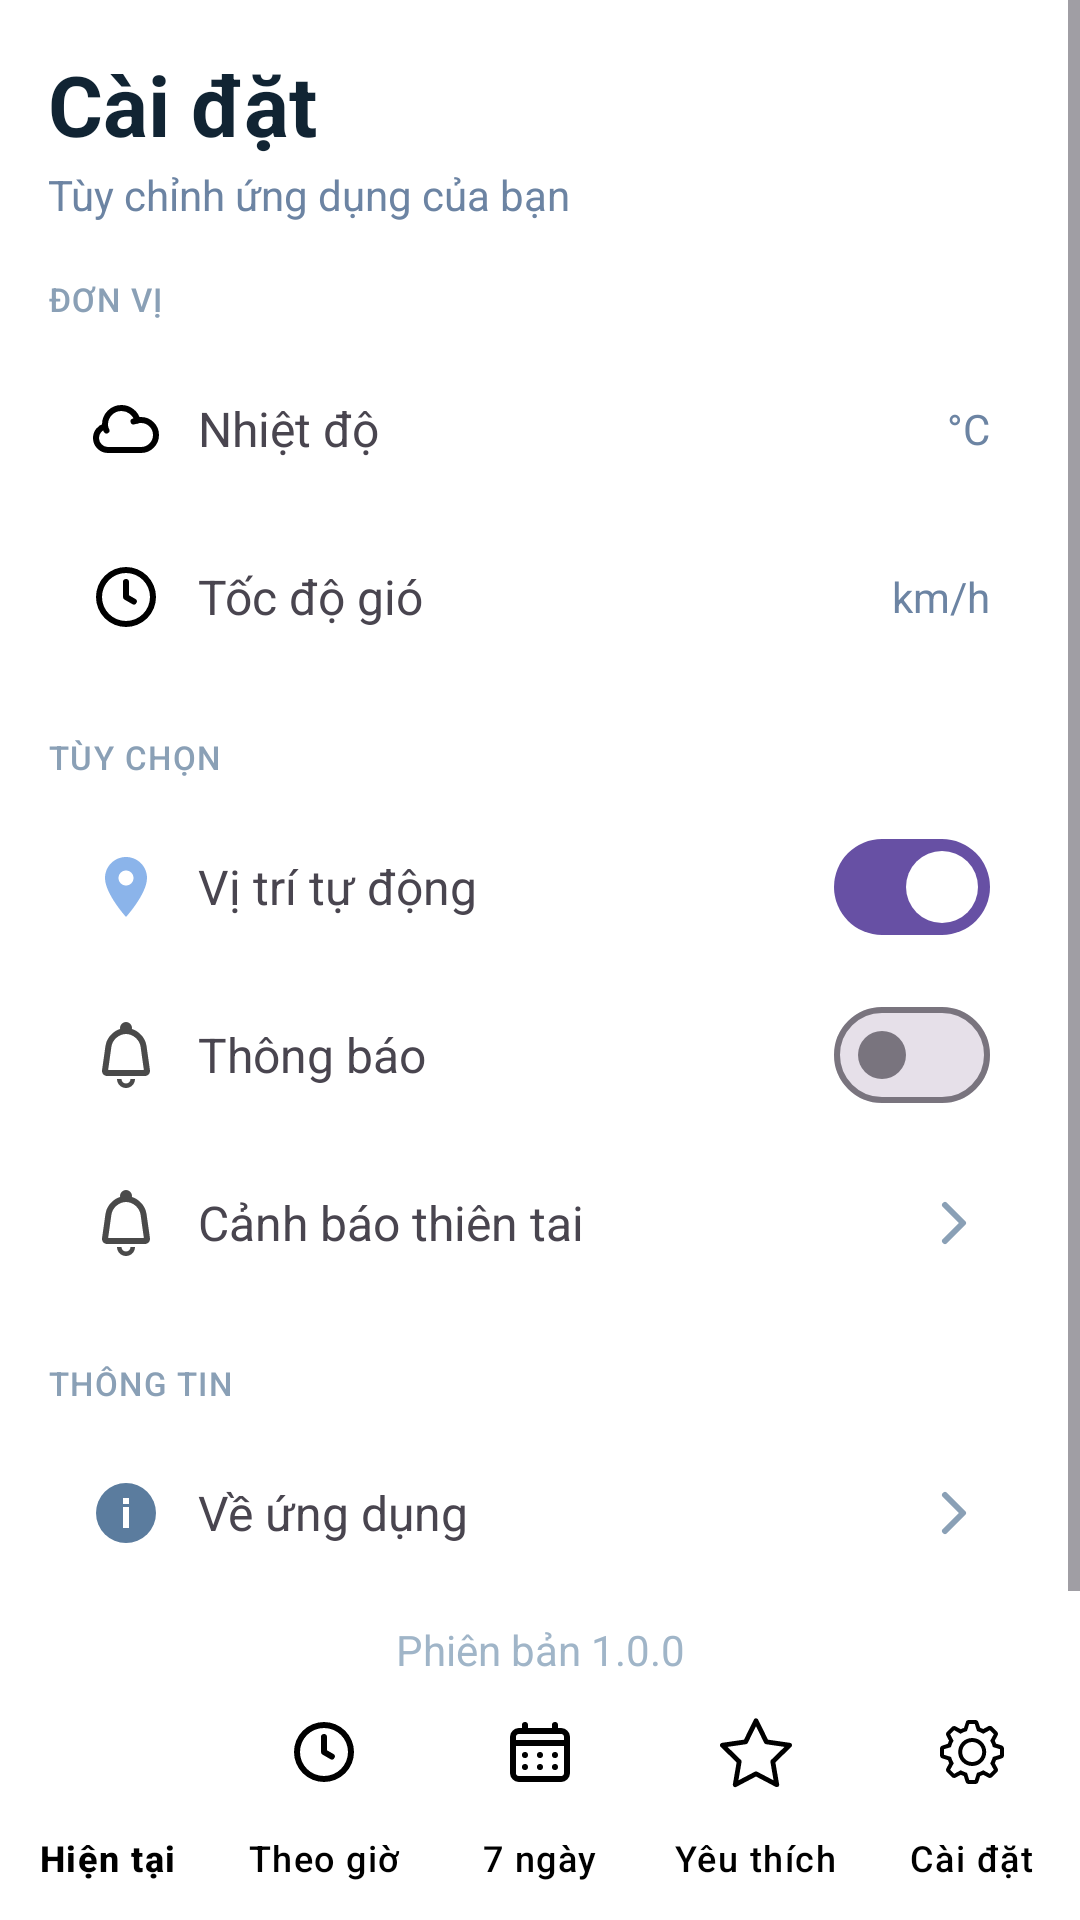

Where icons sit on this 1080 × 1920 app screen, as (x1, y1, x2, y2):
bell: (102, 1022, 150, 1088), (102, 1190, 150, 1256)
chevron right: (942, 1202, 966, 1244), (942, 1492, 966, 1534)
cloud: (93, 405, 159, 453)
info: (96, 1483, 156, 1543)
location: (105, 857, 147, 917)
time: (96, 567, 156, 627)
